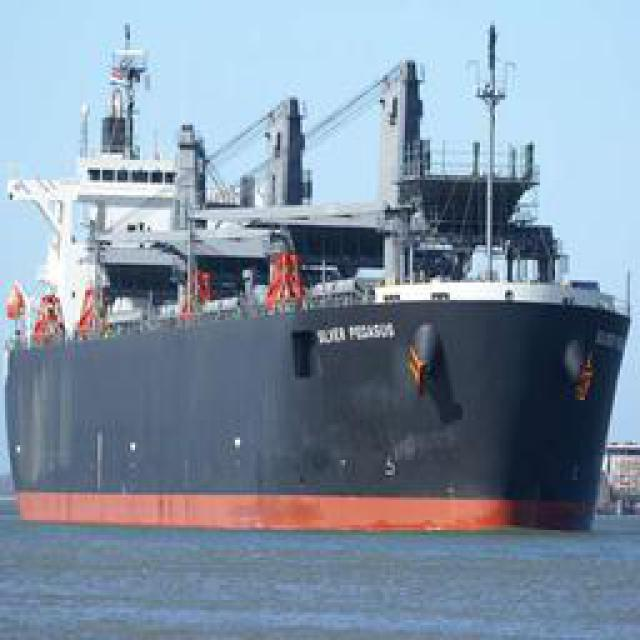Ship: (1, 7, 640, 593)
